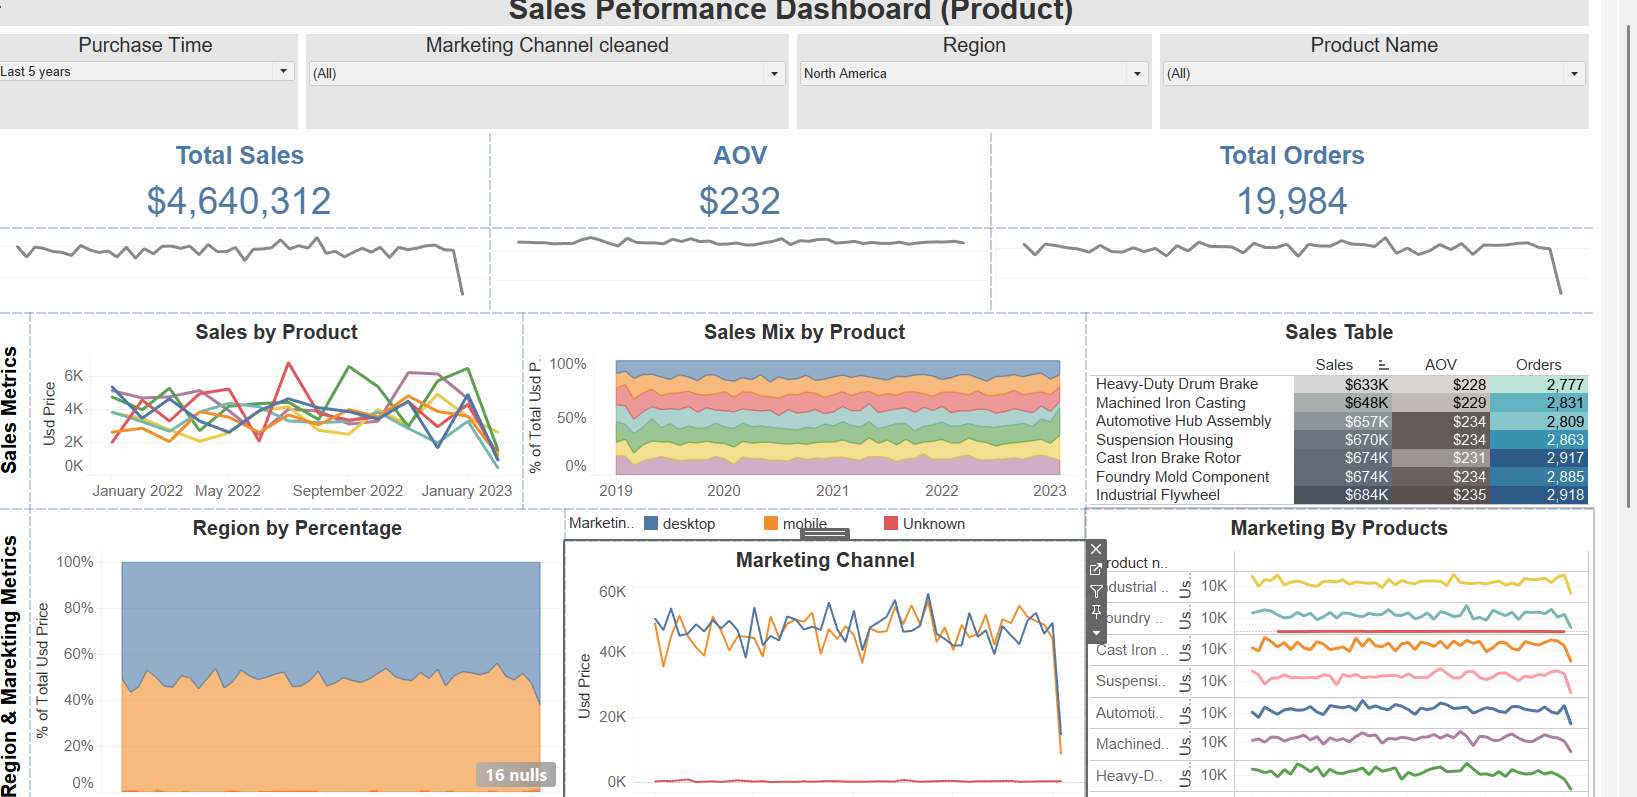

What the dashboard file says about the page in this screenshot:
{"tool":"tableau","page":{"name":"Dashboard 1","canvas":[1620,1260],"ordinal":0},"visuals":[{"type":"dashboard-object","box":[0,8,24,24]},{"type":"title","box":[8,8,1604,42]},{"type":"filter","title":"Sales by Product","param":"[federated.0ehffpt131arwz1dllcln03ftrtv].[none:Purchase_Ts_Cleaned:qk]","box":[8,50,313,103]},{"type":"filter","title":"Sales by Product","param":"[federated.0ehffpt131arwz1dllcln03ftrtv].[none:Marketing_Channel_cleaned:nk]","box":[321,50,491,103]},{"type":"filter","title":"Sales by Product","param":"[federated.0ehffpt131arwz1dllcln03ftrtv].[none:Region_Cleaned:nk]","box":[812,50,363,103]},{"type":"filter","title":"Sales by Product","param":"[federated.0ehffpt131arwz1dllcln03ftrtv].[none:Product_name_Cleaned:nk]","box":[1175,50,437,103]},{"type":"worksheet","title":"Total Sales","mark":"Automatic","box":[8,153,501,95.3]},{"type":"worksheet","title":"AOV","mark":"Automatic","box":[509,153,500.9,95.3]},{"type":"worksheet","title":"Orders","mark":"Automatic","box":[1009.9,153,602.1,95.3]},{"type":"worksheet","title":"Sparkline","mark":"Automatic","rows":["USD_PRICE"],"cols":["Purchase_Ts_Cleaned"],"box":[8,248.3,501,85.2]},{"type":"worksheet","title":"Sparkline (2)","mark":"Automatic","rows":["USD_PRICE"],"cols":["Purchase_Ts_Cleaned"],"box":[509,248.3,500.9,85.2]},{"type":"worksheet","title":"Sparkline (3)","mark":"Automatic","rows":["USD_PRICE"],"cols":["Purchase_Ts_Cleaned"],"box":[1009.9,248.3,602.1,85.2]},{"type":"text","box":[8,333.5,41,195.5]},{"type":"worksheet","title":"Sales by Product","mark":"Automatic","rows":["USD_PRICE"],"cols":["Purchase_Ts_Cleaned"],"box":[49,333.5,493,195.5]},{"type":"worksheet","title":"Sales Mix By Product","mark":"Area","cols":["Purchase_Ts_Cleaned"],"box":[542,333.5,563,195.5]},{"type":"worksheet","title":"Sales Table","mark":"Square","rows":["Product_name_Cleaned"],"box":[1105,333.5,507,195.5]},{"type":"text","box":[8,529,41,317]},{"type":"worksheet","title":"Region % USD ","mark":"Area","cols":["Purchase_Ts_Cleaned"],"box":[49,529,534.9,317]},{"type":"legend","title":"Marketing USD","param":"[federated.0ehffpt131arwz1dllcln03ftrtv].[none:Marketing_Channel_cleaned:nk]","box":[583.9,529,521,31.9]},{"type":"worksheet","title":"Product Marketing","mark":"Automatic","rows":["Product_name_Cleaned","USD_PRICE"],"cols":["Purchase_Ts_Cleaned"],"box":[1105,529,507,317]},{"type":"worksheet","title":"Marketing USD","mark":"Automatic","rows":["USD_PRICE"],"cols":["Purchase_Ts_Cleaned"],"box":[583.9,560.9,521,285.1]},{"type":"text","box":[8,846,40.3,406]},{"type":"worksheet","title":"Sales By region","mark":"Bar","rows":["USD_PRICE"],"cols":["Purchase_Ts_Cleaned"],"box":[48.3,846,1395.6,406]},{"type":"legend","title":"Sales By region","param":"[federated.0ehffpt131arwz1dllcln03ftrtv].[none:Region_Cleaned:nk]","box":[1444,846,168,406]}]}

Visuals, with their boxes on the page's 1620x1260 design canvas (x1, y1, x2, y2). These are canvas units, not pixel positions in the 1637x797 screenshot, which may show the page scaled, cropped or inside an application window:
dashboard-object: <bbox>0, 8, 24, 32</bbox>
title: <bbox>8, 8, 1612, 50</bbox>
"Sales by Product" filter: <bbox>8, 50, 321, 153</bbox>
"Sales by Product" filter: <bbox>321, 50, 812, 153</bbox>
"Sales by Product" filter: <bbox>812, 50, 1175, 153</bbox>
"Sales by Product" filter: <bbox>1175, 50, 1612, 153</bbox>
"Total Sales" worksheet: <bbox>8, 153, 509, 248</bbox>
"AOV" worksheet: <bbox>509, 153, 1010, 248</bbox>
"Orders" worksheet: <bbox>1010, 153, 1612, 248</bbox>
"Sparkline" worksheet: <bbox>8, 248, 509, 334</bbox>
"Sparkline (2)" worksheet: <bbox>509, 248, 1010, 334</bbox>
"Sparkline (3)" worksheet: <bbox>1010, 248, 1612, 334</bbox>
text: <bbox>8, 334, 49, 529</bbox>
"Sales by Product" worksheet: <bbox>49, 334, 542, 529</bbox>
"Sales Mix By Product" worksheet (Area marks): <bbox>542, 334, 1105, 529</bbox>
"Sales Table" worksheet (Square marks): <bbox>1105, 334, 1612, 529</bbox>
text: <bbox>8, 529, 49, 846</bbox>
"Region % USD " worksheet (Area marks): <bbox>49, 529, 584, 846</bbox>
"Marketing USD" legend: <bbox>584, 529, 1105, 561</bbox>
"Product Marketing" worksheet: <bbox>1105, 529, 1612, 846</bbox>
"Marketing USD" worksheet: <bbox>584, 561, 1105, 846</bbox>
text: <bbox>8, 846, 48, 1252</bbox>
"Sales By region" worksheet (Bar marks): <bbox>48, 846, 1444, 1252</bbox>
"Sales By region" legend: <bbox>1444, 846, 1612, 1252</bbox>
